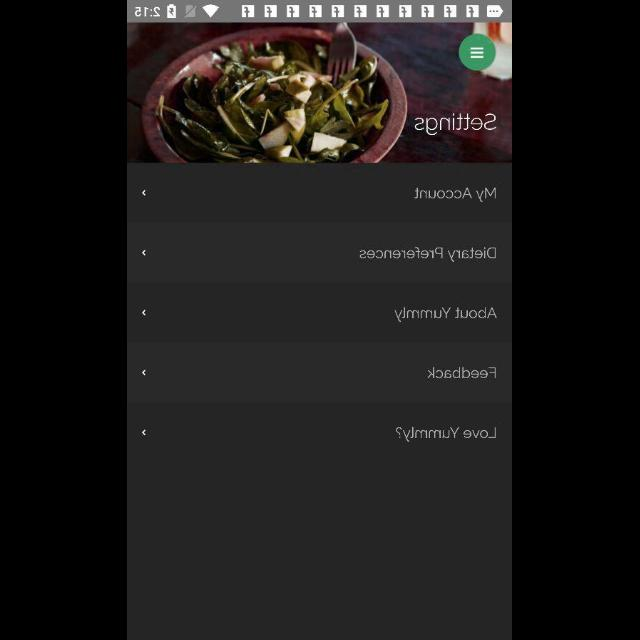icon: (459, 34, 496, 72), (142, 187, 150, 199), (142, 247, 150, 259), (142, 307, 150, 319), (142, 367, 150, 379), (142, 427, 150, 439)
image: (128, 24, 512, 164)
text: (360, 247, 496, 263), (415, 114, 497, 136), (396, 426, 496, 444), (394, 307, 498, 323), (414, 188, 496, 202), (428, 366, 497, 379)
uppertaskbar: (128, 1, 512, 23)
